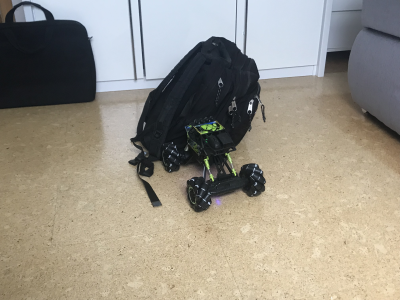remote control car: (161, 115, 267, 212)
